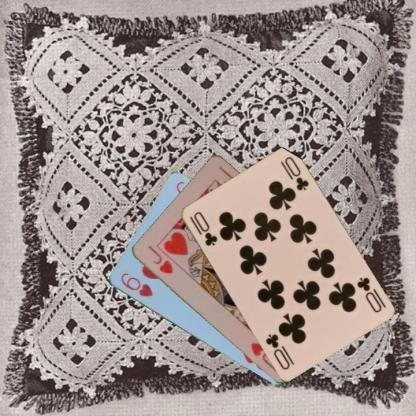10c: (354, 274, 384, 314), (191, 209, 220, 247)
6h: (118, 270, 154, 298)
Jh: (145, 242, 174, 276)
